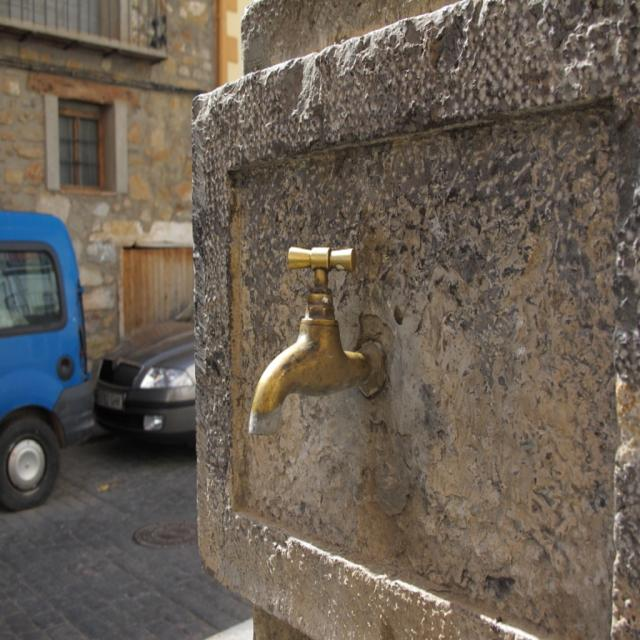car: (86, 301, 194, 447)
